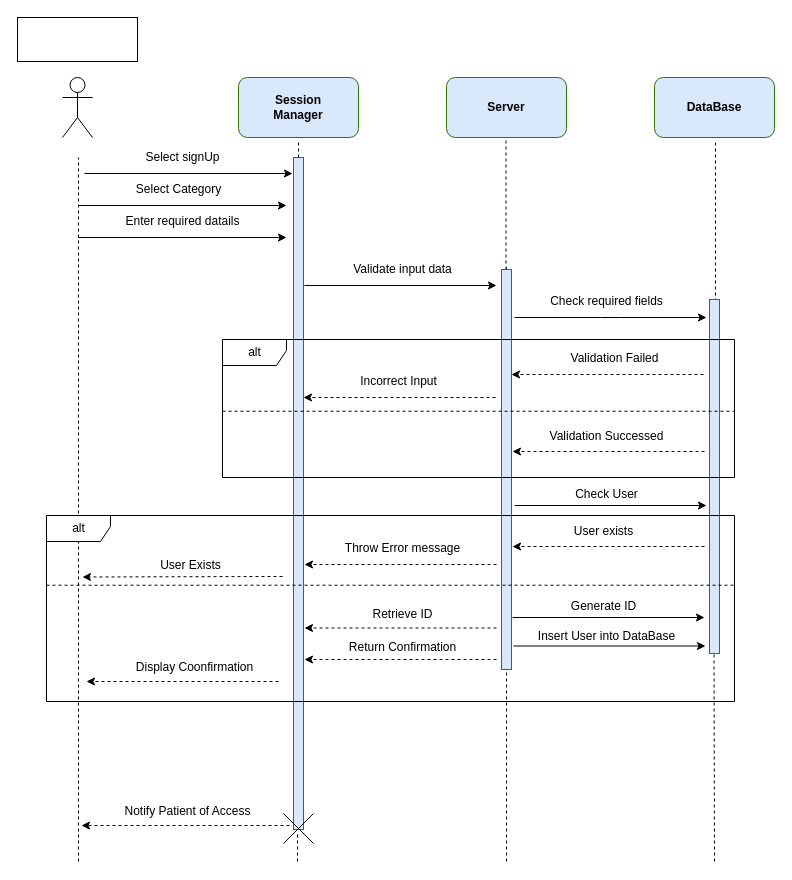
The diagram is 792 pixels wide and 880 high, and some of its shapes have lost their labels. Each missing label, with the centre of its shape:
SignUp: point (77, 39)
User: point (77, 107)
